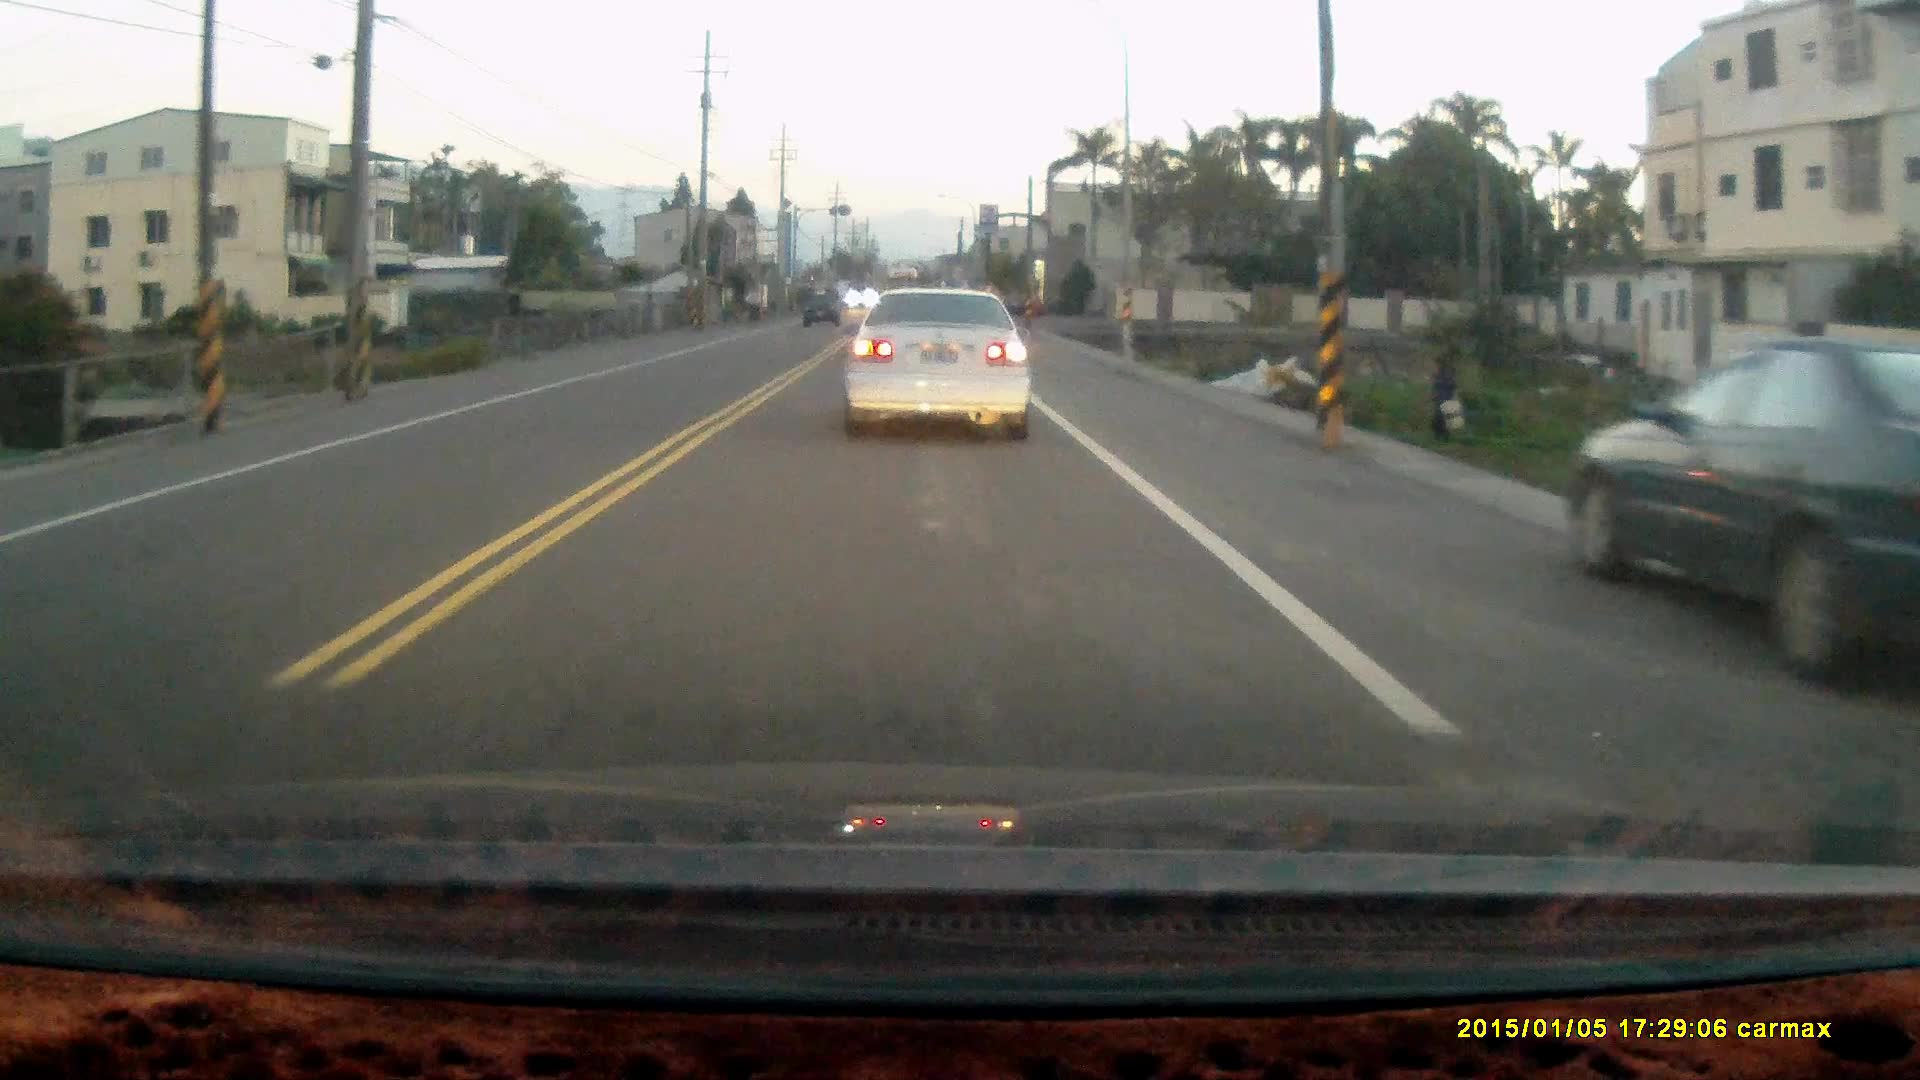pedestrian: (1428, 355, 1462, 439)
vehicle: (1567, 331, 1920, 687), (846, 289, 1038, 434), (801, 287, 843, 331)
